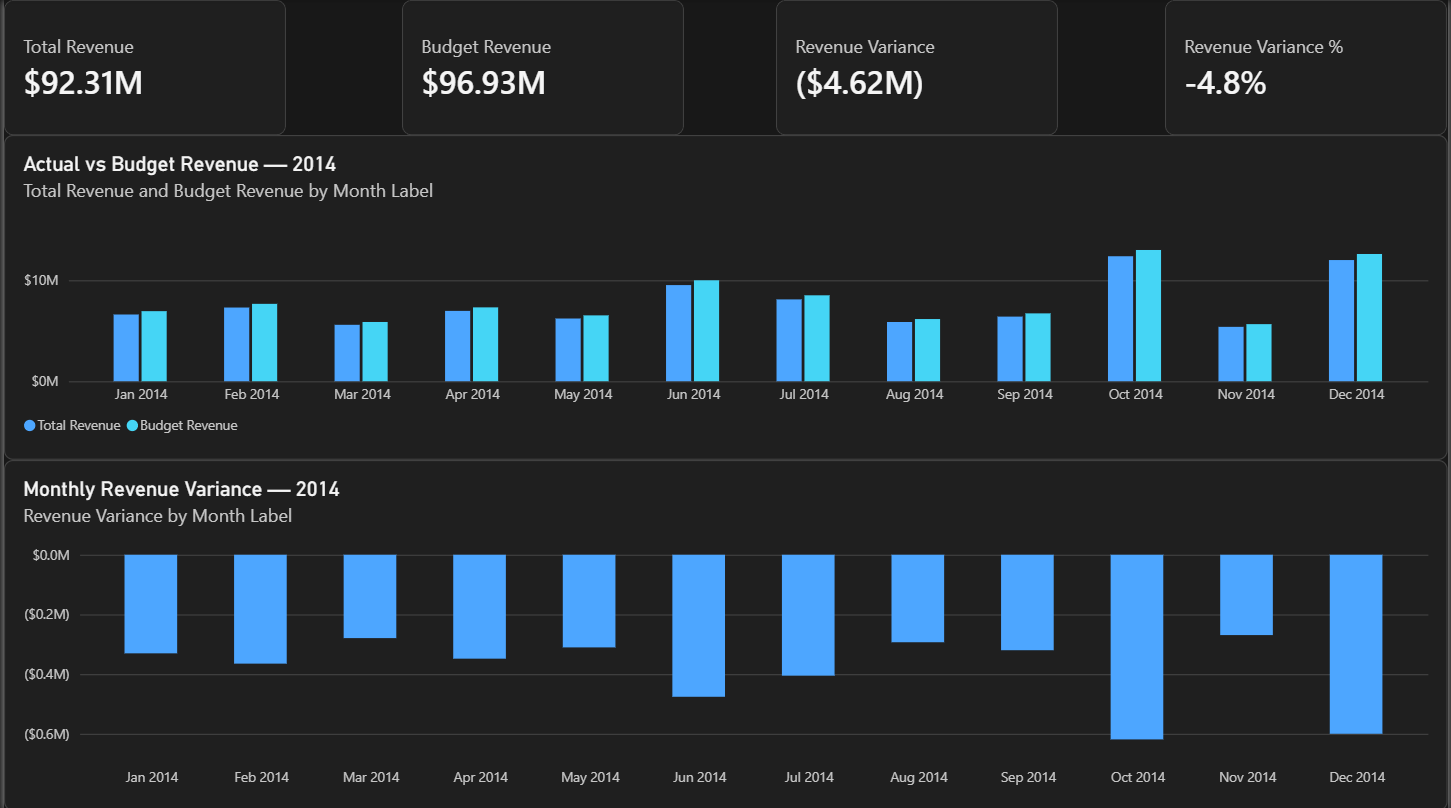

Layout of this report page (visuals, bound fields, positions):
{"tool":"powerbi","page":{"name":"Budget vs Actual","canvas":[1280,720],"ordinal":1},"visuals":[{"type":"clusteredColumnChart","title":"Actual vs Budget Revenue — 2014","fields":{"Category":["Calendar.Month Label"],"Y":["Budget.Total Revenue","Budget.Budget Revenue"]},"box":[0,119.9,1280,288.3],"z":0},{"type":"cardVisual","fields":{"Data":["Budget.Revenue Variance %"]},"box":[1029.4,0,250,120],"z":1000},{"type":"cardVisual","fields":{"Data":["Budget.Revenue Variance"]},"box":[684.5,0,250,120],"z":2000},{"type":"cardVisual","fields":{"Data":["Budget.Total Revenue"]},"box":[0,0,250,120],"z":3000},{"type":"cardVisual","fields":{"Data":["Budget.Budget Revenue"]},"box":[353,0,250,120],"z":4000},{"type":"clusteredColumnChart","title":"Monthly Revenue Variance — 2014","fields":{"Category":["Calendar.Month Label"],"Y":["Budget.Revenue Variance"]},"box":[0,408.3,1280,311.2],"z":5000}]}

Visuals, with their boxes in screenshot pixels (x1, y1, x2, y2), scaled from the page's 1280x720 canvas onto the 1451x808 screenshot:
"Actual vs Budget Revenue — 2014" clusteredColumnChart: locate(0, 135, 1450, 458)
cardVisual - Budget.Revenue Variance %: locate(1167, 0, 1450, 135)
cardVisual - Budget.Revenue Variance: locate(776, 0, 1059, 135)
cardVisual - Budget.Total Revenue: locate(0, 0, 283, 135)
cardVisual - Budget.Budget Revenue: locate(400, 0, 684, 135)
"Monthly Revenue Variance — 2014" clusteredColumnChart: locate(0, 458, 1450, 807)
